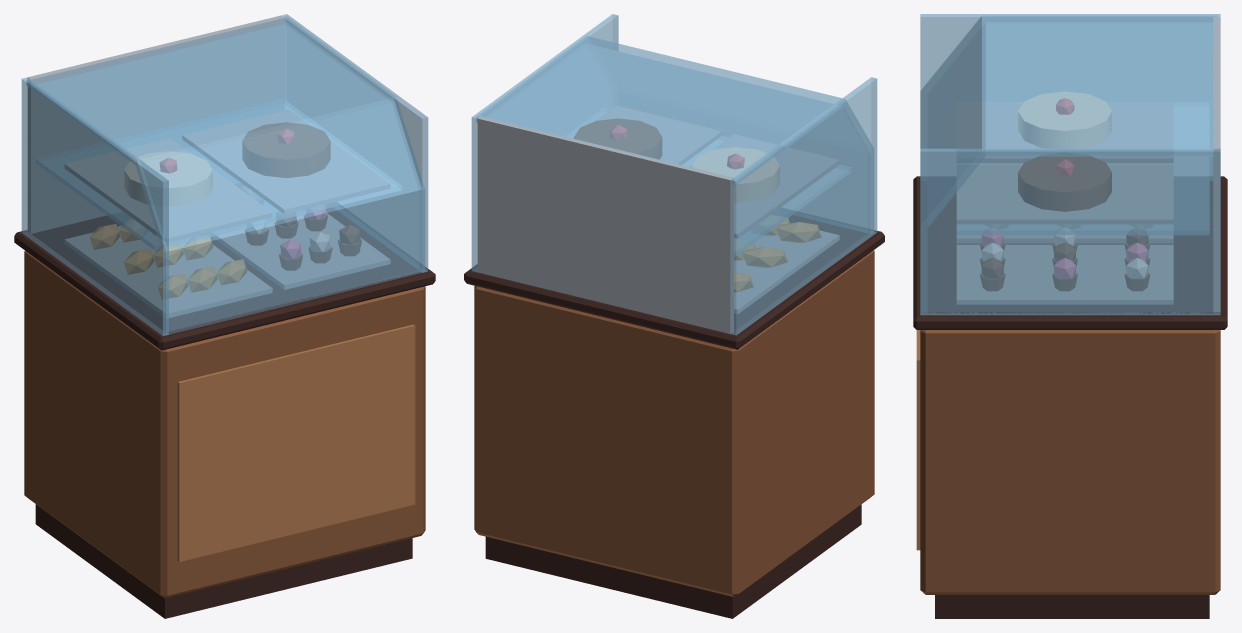
File: pastry_case.glb
3 views of the same model, side by side, from view 1: azimuth 30°, elevation 25°; view 2: azimuth 150°, elevation 25°; view 3: azimuth 270°, elevation 25° (orthographic). The views are drawn at different scales.
Visible parts, largest first — view 1: pastry_case; view 2: pastry_case; view 3: pastry_case.
Part boxes in pixels (x1,y1,x2,y2): pastry_case: (14,14,435,618); pastry_case: (464,14,884,618); pastry_case: (913,14,1227,618).
Bounding box in the file's own units: 0.94 × 1.44 × 0.87.
